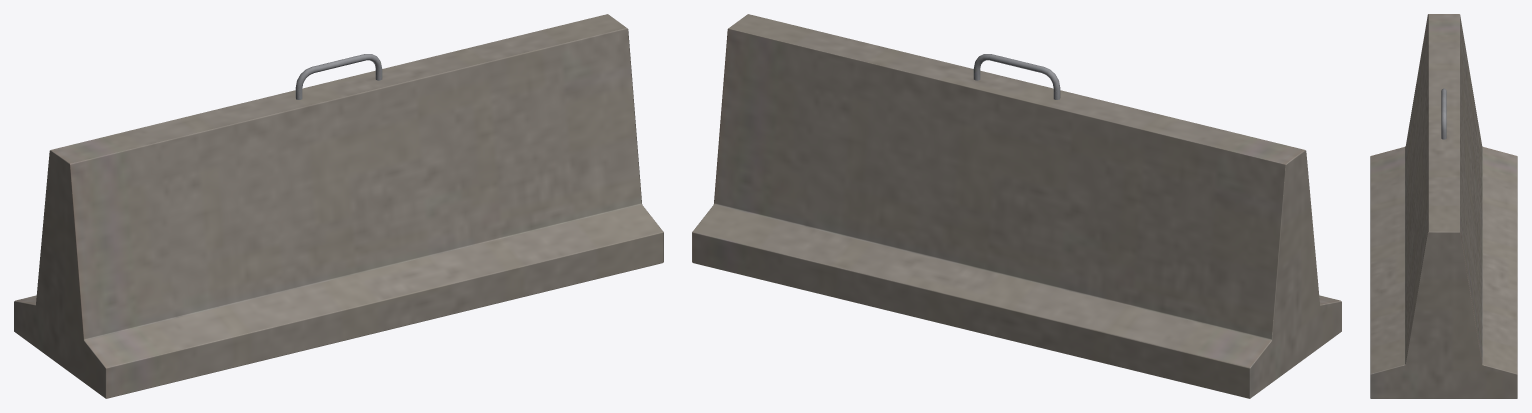
Rendered from separateur_beton.glb.
3 renders of one model, left to right at view 1: azimuth 30°, elevation 25°; view 2: azimuth 150°, elevation 25°; view 3: azimuth 270°, elevation 25°, orthographic. The views are drawn at different scales.
Visible parts, largest first — view 1: Concrete_Barrier; view 2: Concrete_Barrier; view 3: Concrete_Barrier.
Boxes of the visible parts, x1,y1,x2,y2 form: Concrete_Barrier: (14,14,663,398); Concrete_Barrier: (692,14,1341,398); Concrete_Barrier: (1370,14,1517,398).
Bounding box in the file's own units: 1.4 × 0.5679 × 0.4.
Materials: 2 (2 with a texture image).
